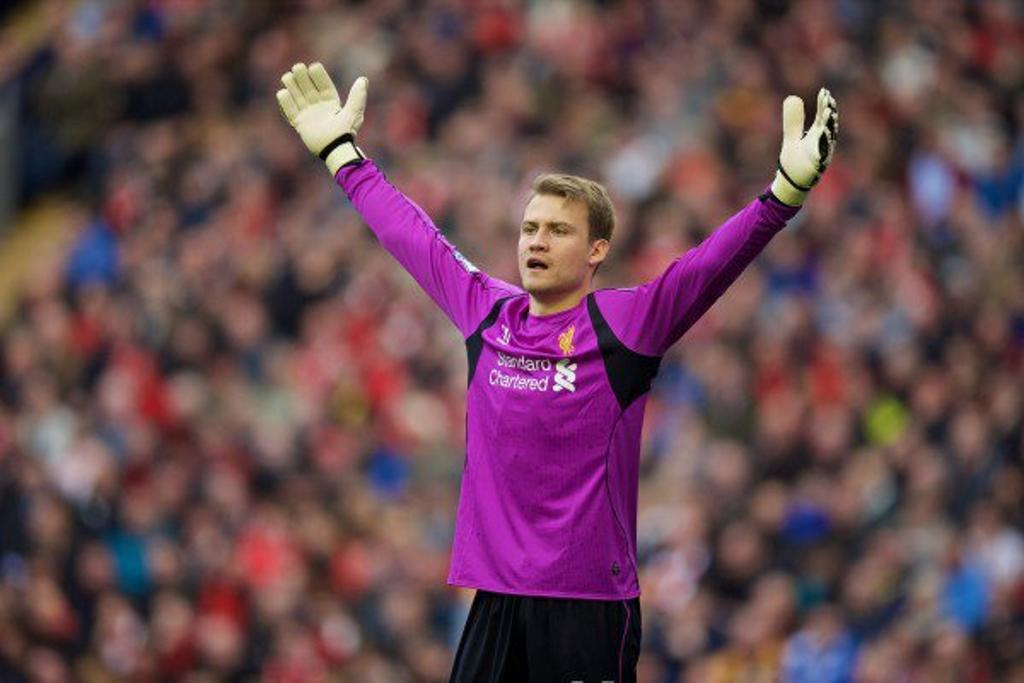face: (521, 191, 593, 293)
